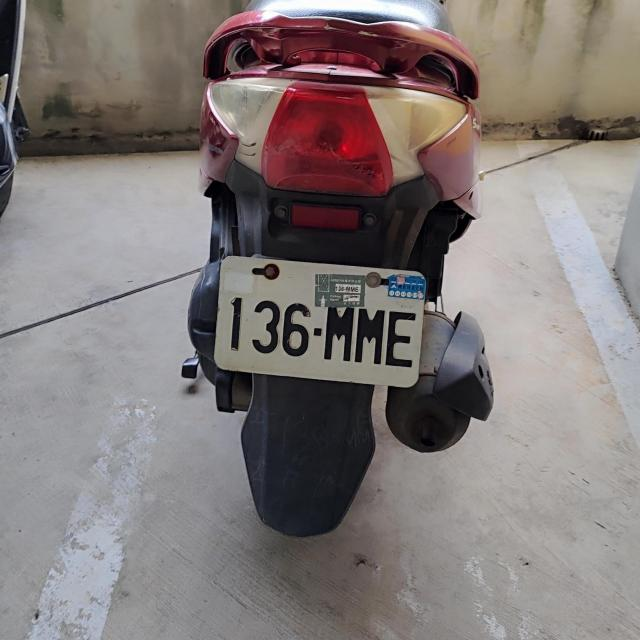W: (214, 255, 426, 387)
